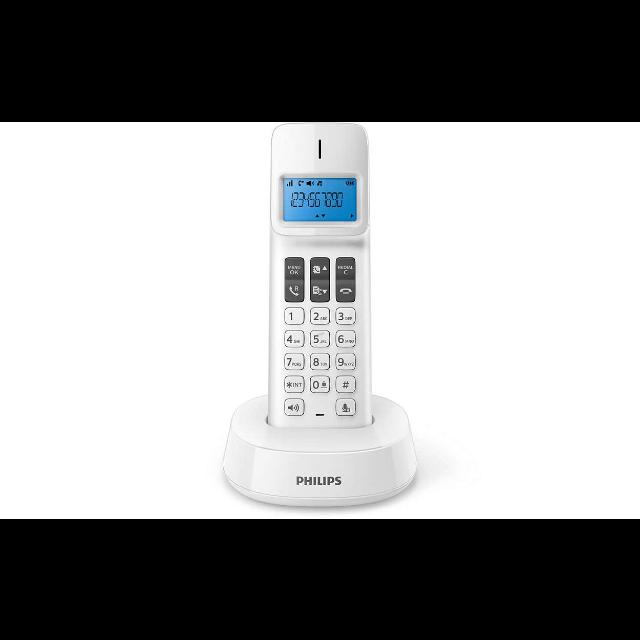Telephone-Set: (200, 131, 502, 519)
